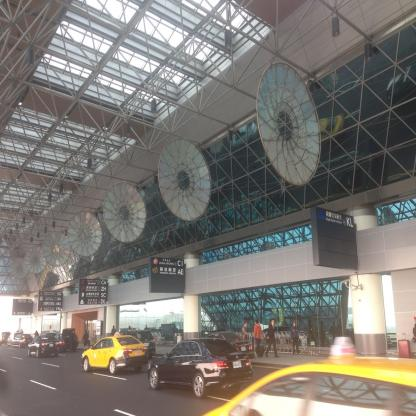Car: (205, 354, 416, 416), (150, 335, 253, 399), (85, 336, 151, 371), (204, 331, 257, 369), (30, 338, 64, 362), (61, 328, 79, 354), (13, 334, 37, 352)
